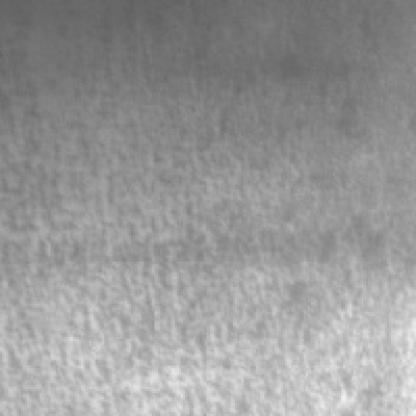pitted_surface: (6, 12, 398, 410)
